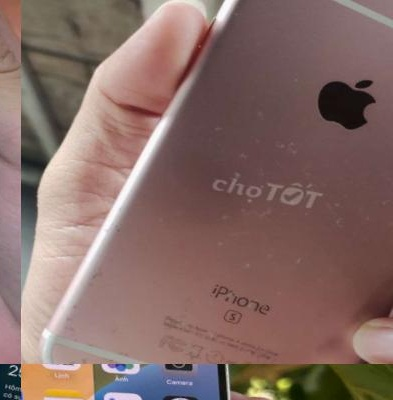scratch: (196, 192, 358, 316), (51, 299, 171, 364), (317, 167, 393, 252), (150, 343, 299, 364), (266, 132, 322, 176), (272, 0, 376, 20), (246, 92, 284, 132)
